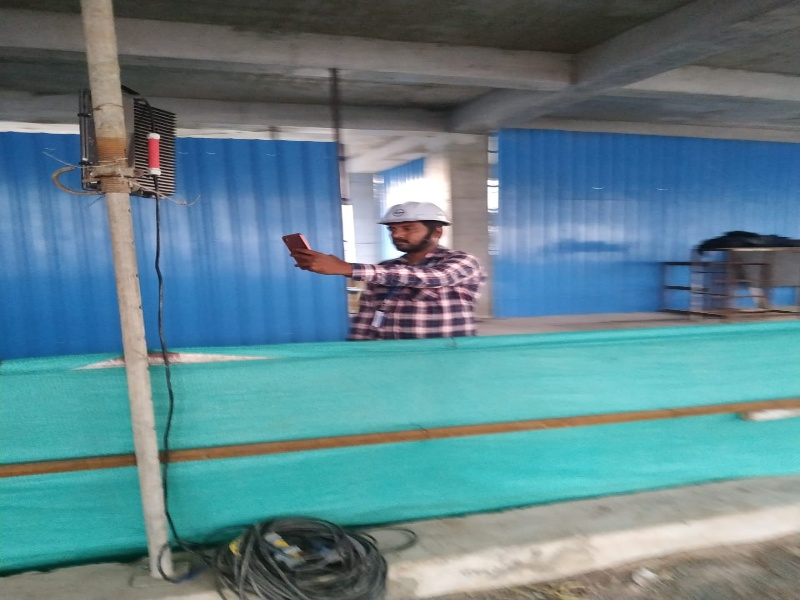Face: (374, 198, 453, 229)
